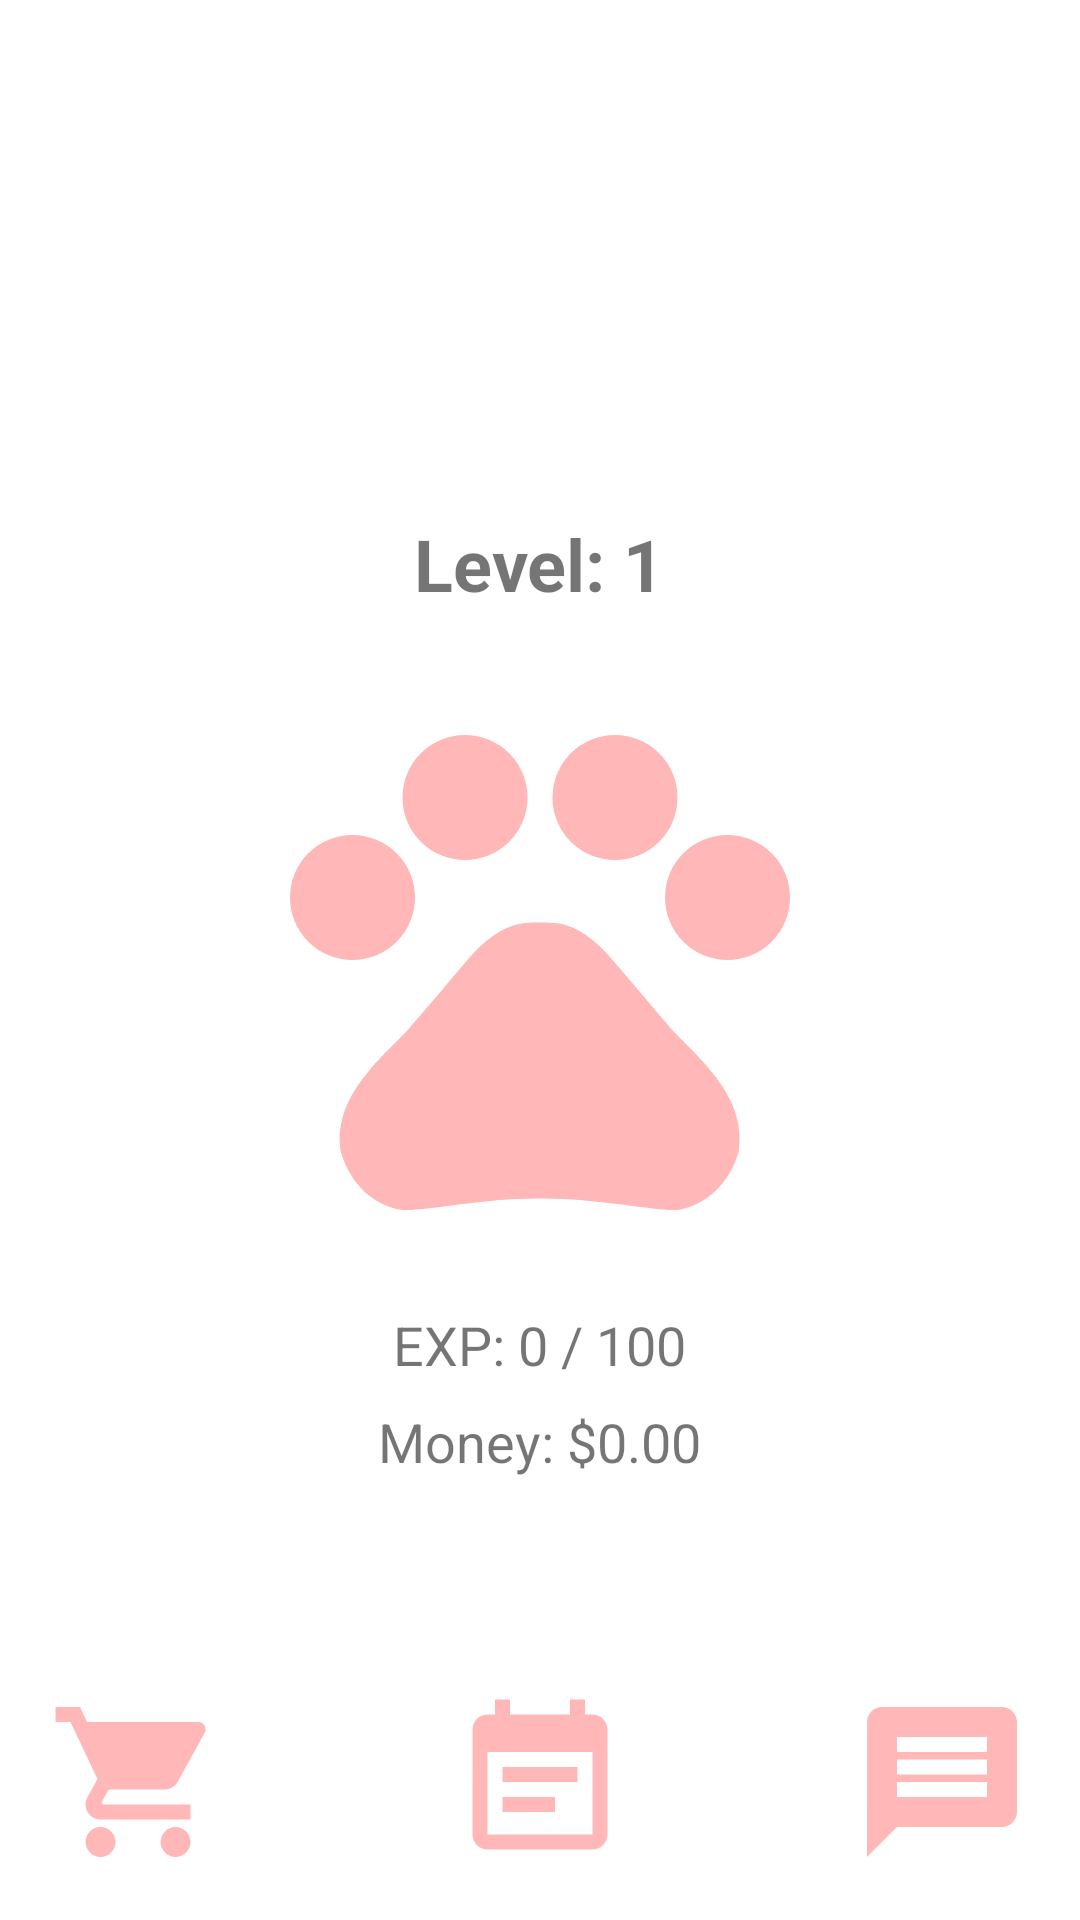

Where icons sit on this 1080 x 1920 app screen, as (x1, y1, x2, y2):
Chat Button: (867, 1707, 1017, 1857)
Shop Button: (55, 1707, 206, 1857)
Task Button: (472, 1699, 608, 1850)
